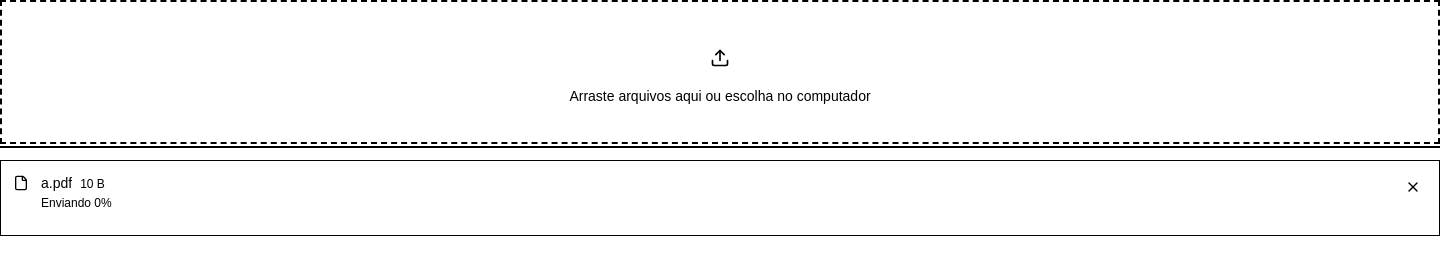
Test: FileUpload: progresso, cancelar e sinal › cancelar aborta o signal, marca cancelado e ignora o que chegar depois
Earlier steps of the test are not shown.
Click the button named "Cancelar o envio de a.pdf": (1413, 187) [1399,173,1427,201]
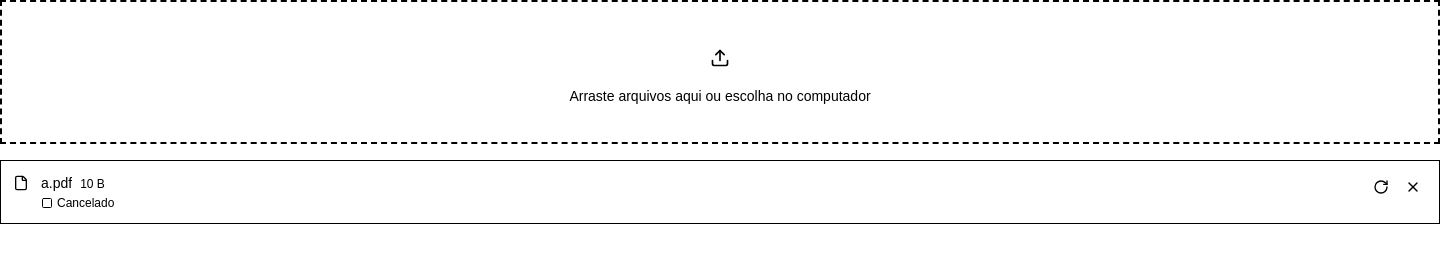
expect the text "Cancelado" is shown: met, box [41,196,114,210]
